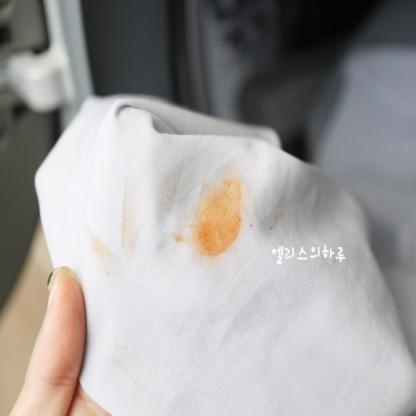kimchi: (183, 179, 247, 256), (110, 187, 149, 255), (84, 219, 121, 268), (165, 222, 187, 245), (265, 217, 280, 236), (248, 217, 256, 228)
